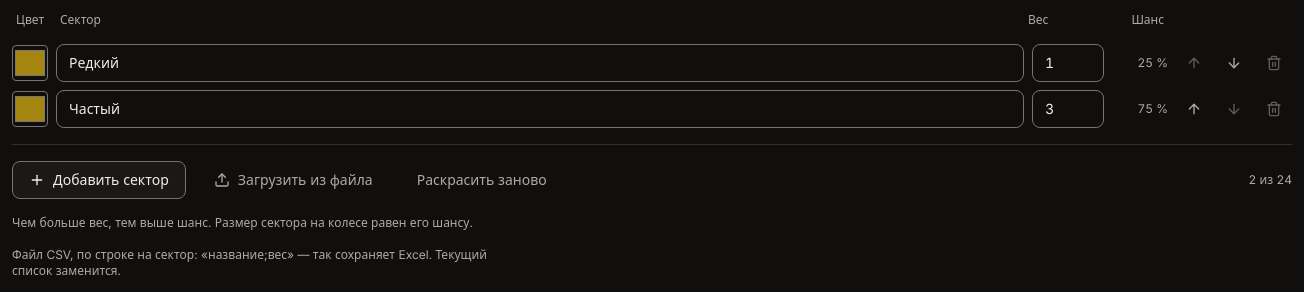
сектора рулетки › шанс — вес от суммы весов
The image size is (1304, 292).
Check: the list named "Сектора колеса" reads "25 % 75 %", box [12, 44, 1292, 128]
Replace the text in the number field named "Вес сектора «Редкий»" with "3" at (1068, 63), box [1032, 44, 1104, 82]
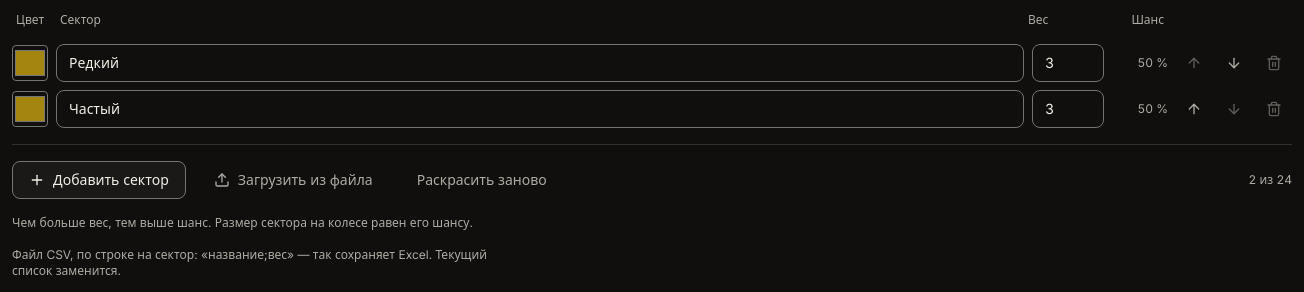
Check: the list named "Сектора колеса" reads "50 % 50 %", box [12, 44, 1292, 128]
